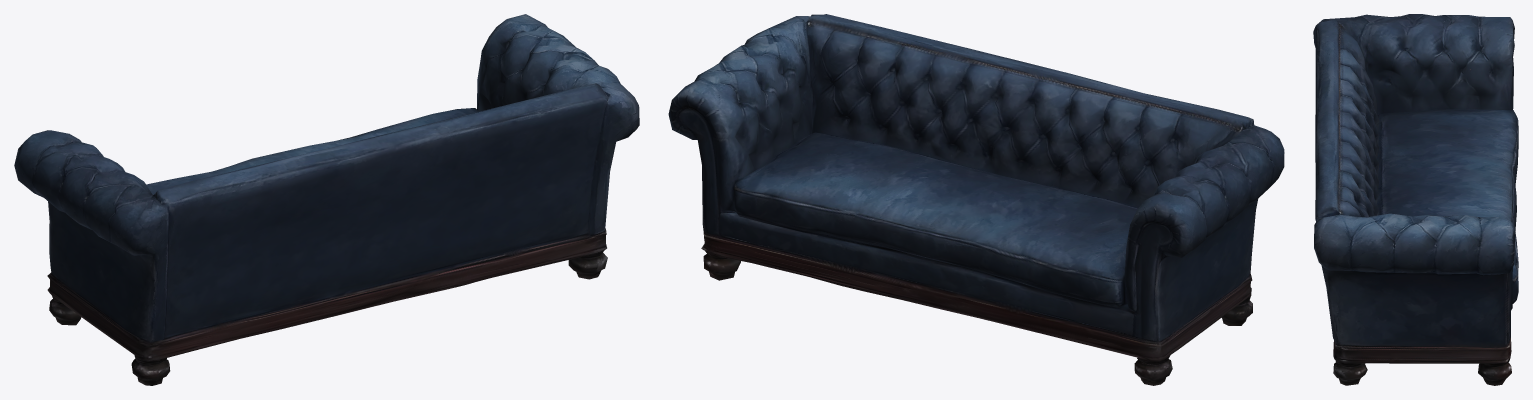
Rendered from parlor_sofa_tufted.glb.
3 renders of one model, left to right at view 1: azimuth 30°, elevation 25°; view 2: azimuth 150°, elevation 25°; view 3: azimuth 270°, elevation 25°, orthographic. The views are drawn at different scales.
Visible parts, largest first — view 1: tripo_node_97801027-ae2e-4315-b413-49c5fb504a8c; view 2: tripo_node_97801027-ae2e-4315-b413-49c5fb504a8c; view 3: tripo_node_97801027-ae2e-4315-b413-49c5fb504a8c.
Part boxes in pixels (left/top/right/bottom): tripo_node_97801027-ae2e-4315-b413-49c5fb504a8c: left=14, top=14, right=639, bottom=385; tripo_node_97801027-ae2e-4315-b413-49c5fb504a8c: left=668, top=14, right=1284, bottom=385; tripo_node_97801027-ae2e-4315-b413-49c5fb504a8c: left=1313, top=14, right=1518, bottom=385.
Size of the model in its own units: 1 by 0.3562 by 0.3792.
1 material, 1 textured.
